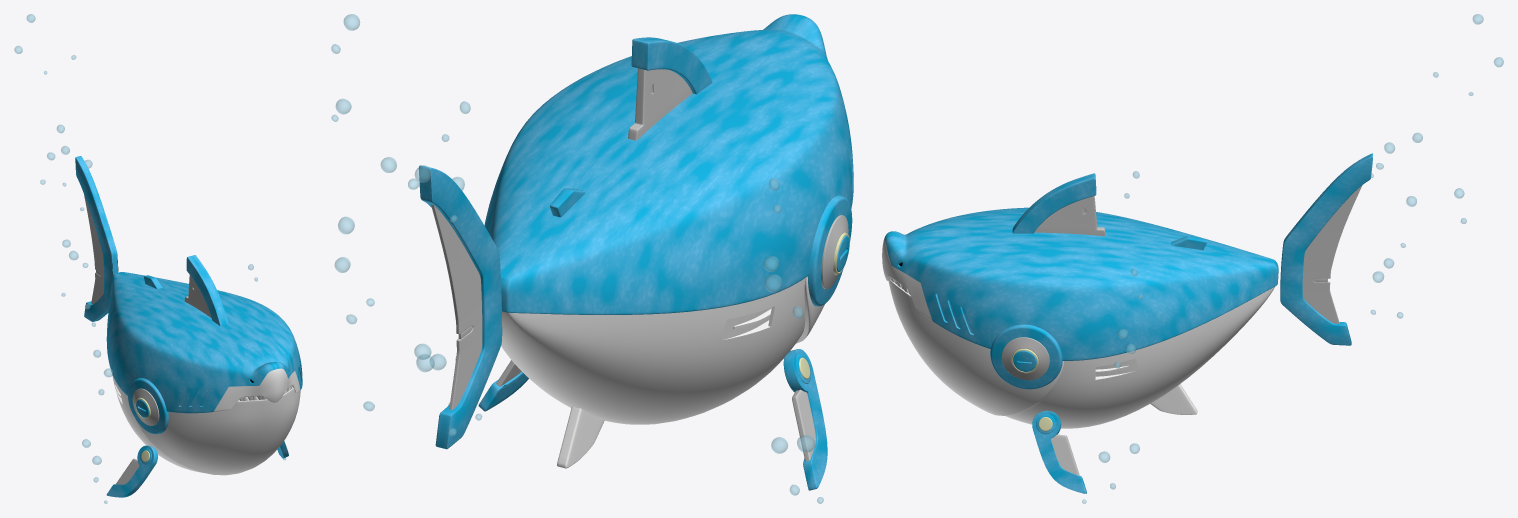
The model's file is robot_shark.glb.
3 renders of one model, left to right at view 1: azimuth 30°, elevation 25°; view 2: azimuth 150°, elevation 25°; view 3: azimuth 270°, elevation 25°, orthographic. The views are drawn at different scales.
Parts seen in each view (by area): view 1: Cube.001_49, Cube.002_50, Cube_48, Cube.007_53, Cube.005_52; view 2: Cube.001_49, Cube.002_50, Cube.007_53, Cube_48, Cube.005_52; view 3: Cube.001_49, Cube.002_50, Cube.007_53, Cube_48, Cube.005_52.
Part boxes in pixels (x1,y1,x2,y2): Cube.001_49: (75,156,302,497); Cube.002_50: (112,374,300,475); Cube_48: (96,270,292,484); Cube.007_53: (84,195,103,304); Cube.005_52: (132,388,159,425); Cube.001_49: (418,14,853,490); Cube.002_50: (501,276,824,468); Cube.007_53: (431,204,482,409); Cube_48: (458,68,815,461); Cube.005_52: (821,215,848,289); Cube.001_49: (882,153,1372,493); Cube.002_50: (888,279,1275,428); Cube.007_53: (1302,185,1362,323); Cube_48: (890,196,1327,475); Cube.005_52: (1001,337,1049,380).
Bounding box in the file's own units: 6.83 × 12.19 × 15.86.
7 materials, 1 textured.
